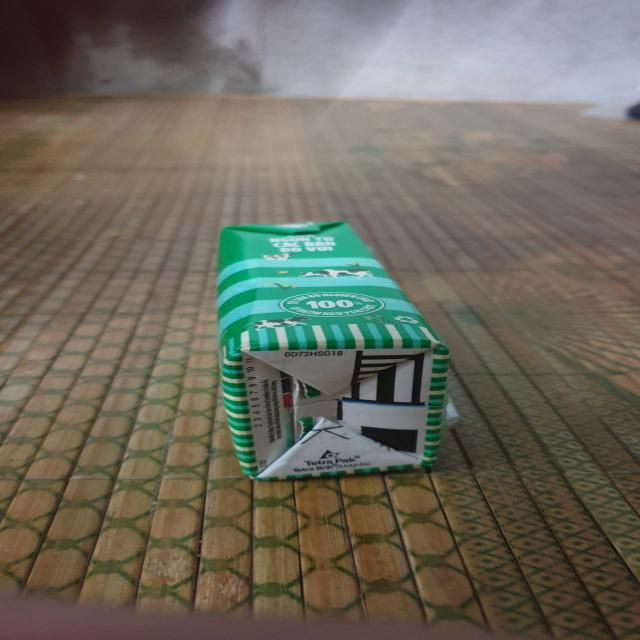Vina: (215, 216, 455, 485)
